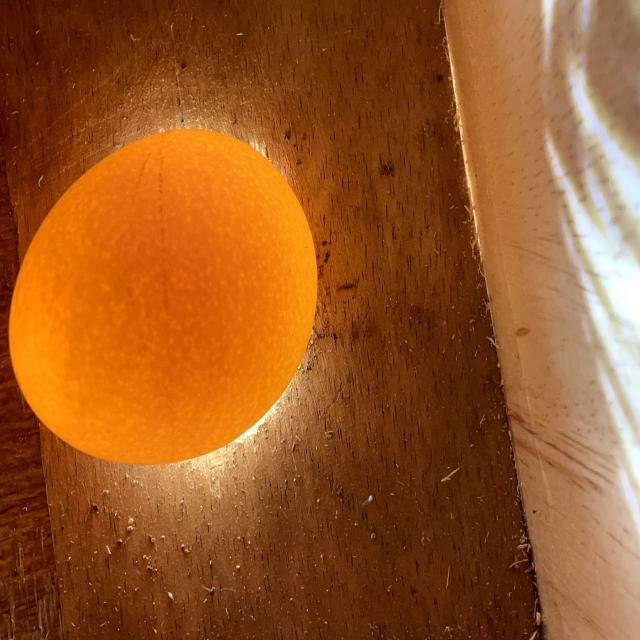infertile: (9, 130, 318, 465)
